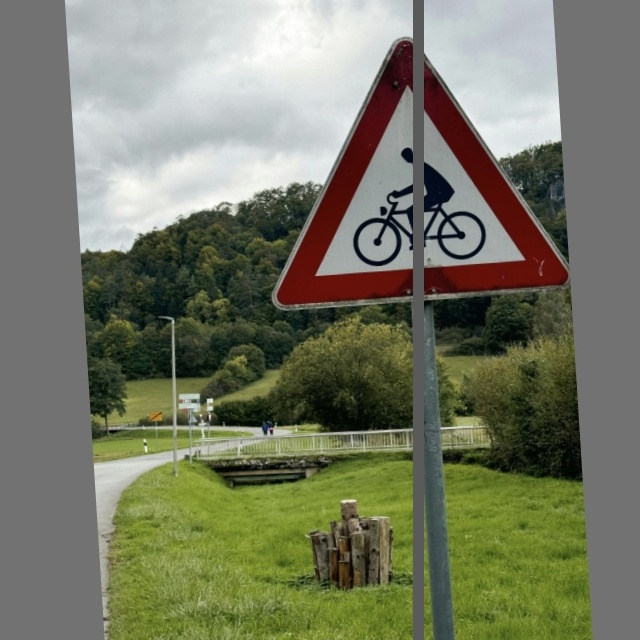Cycle_Crossing: (256, 30, 561, 306)
